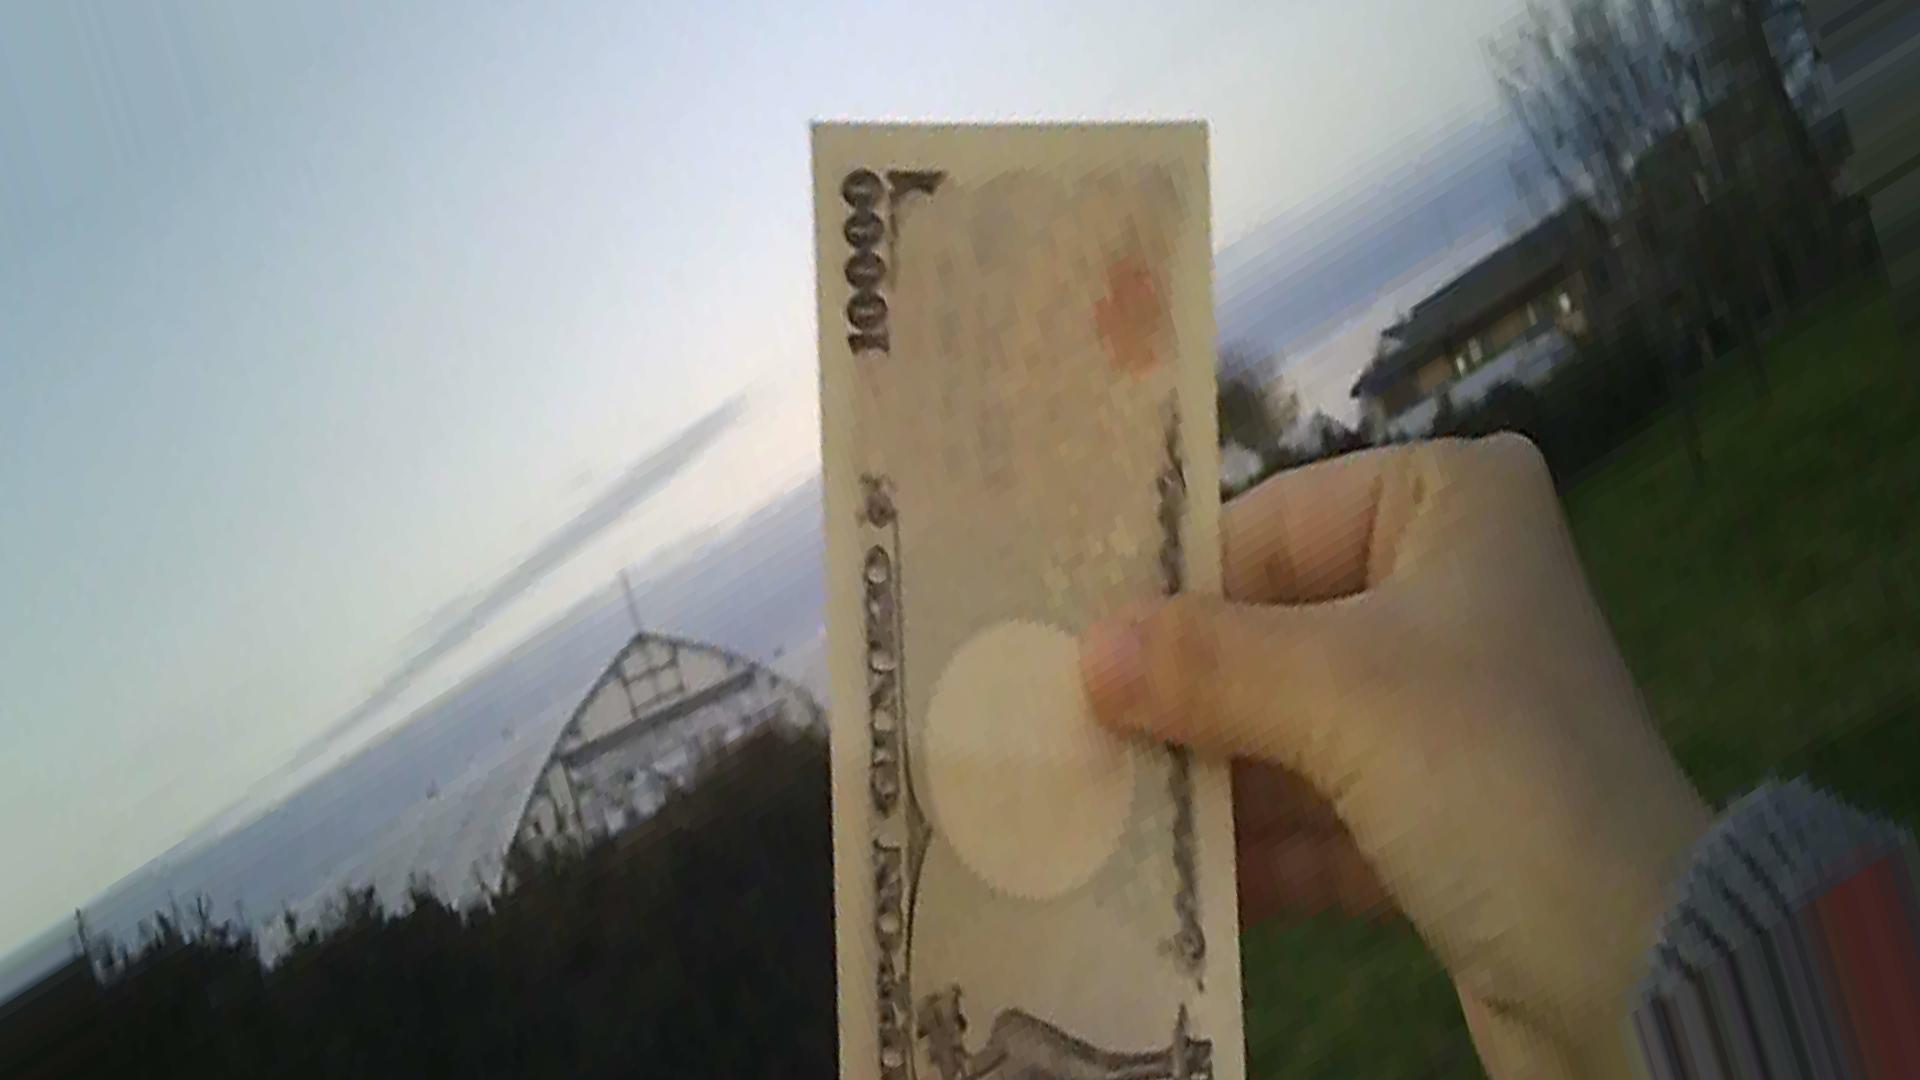10,000 Yen: (793, 103, 1270, 1079)
